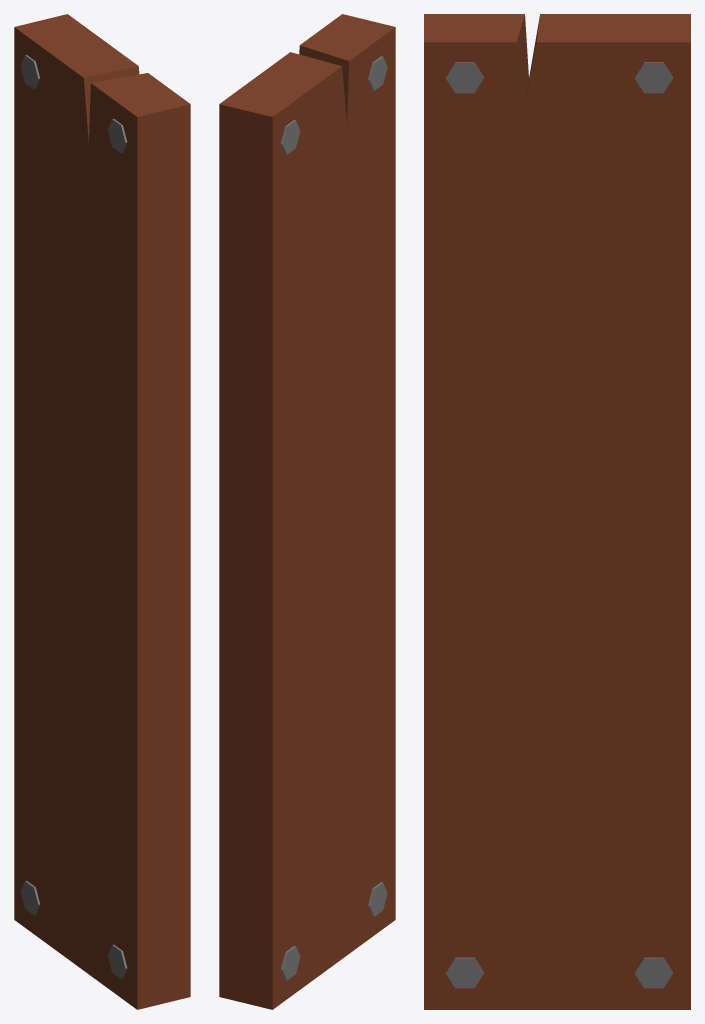
File: PartiallyDamagedPlank.glb
3 renders of one model, left to right at view 1: azimuth 30°, elevation 25°; view 2: azimuth 150°, elevation 25°; view 3: azimuth 270°, elevation 25°, orthographic. The views are drawn at different scales.
Visible parts, largest first — view 1: Cube, Bolt, Bolt.002, Bolt.003, Bolt.001; view 2: Cube, Bolt.003, Bolt.001, Bolt.002, Bolt; view 3: Cube, Bolt, Bolt.001, Bolt.003, Bolt.002.
Boxes of the visible parts, box(x1,y1,x2,y2) form: Cube: box(14, 14, 190, 1009); Bolt: box(20, 55, 40, 89); Bolt.002: box(20, 881, 40, 915); Bolt.003: box(108, 944, 127, 979); Bolt.001: box(108, 119, 127, 153); Cube: box(219, 14, 395, 1009); Bolt.003: box(368, 882, 387, 916); Bolt.001: box(368, 56, 387, 90); Bolt.002: box(281, 946, 300, 980); Bolt: box(281, 120, 300, 154); Cube: box(424, 14, 690, 1009); Bolt: box(634, 62, 672, 93); Bolt.001: box(445, 62, 484, 93); Bolt.003: box(445, 957, 483, 988); Bolt.002: box(634, 957, 672, 988).
Size of the model in its own units: 0.5291 by 8 by 2.
